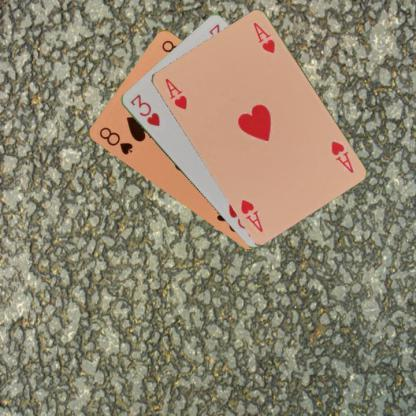3h: (127, 91, 161, 128)
8s: (96, 124, 134, 157)
Ah: (327, 138, 354, 175), (162, 75, 188, 111)
